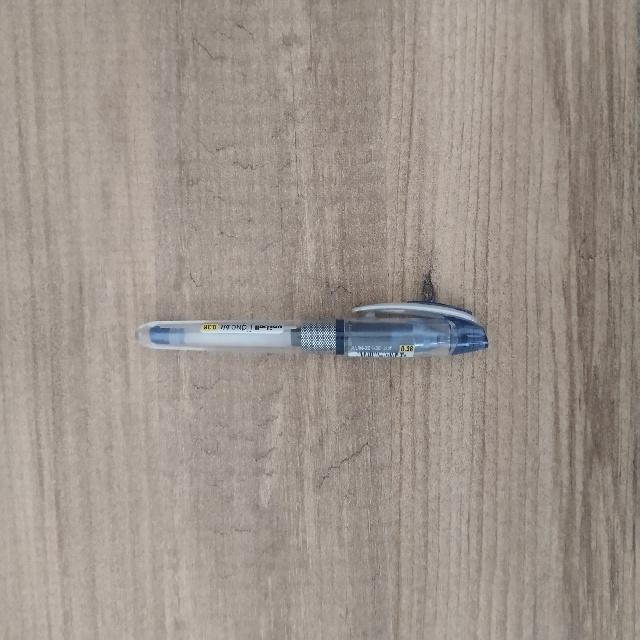pen: (136, 302, 487, 357)
